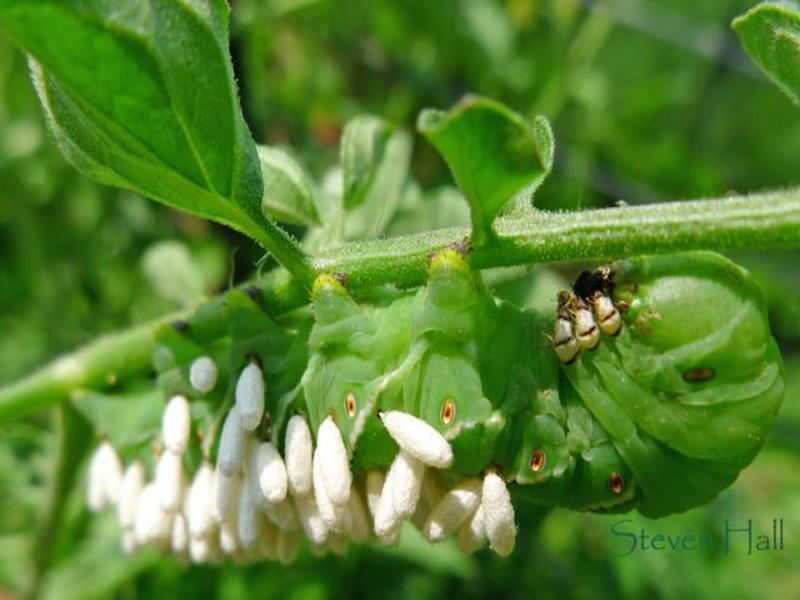Rice_horned_caterpillar: (137, 251, 793, 559)
